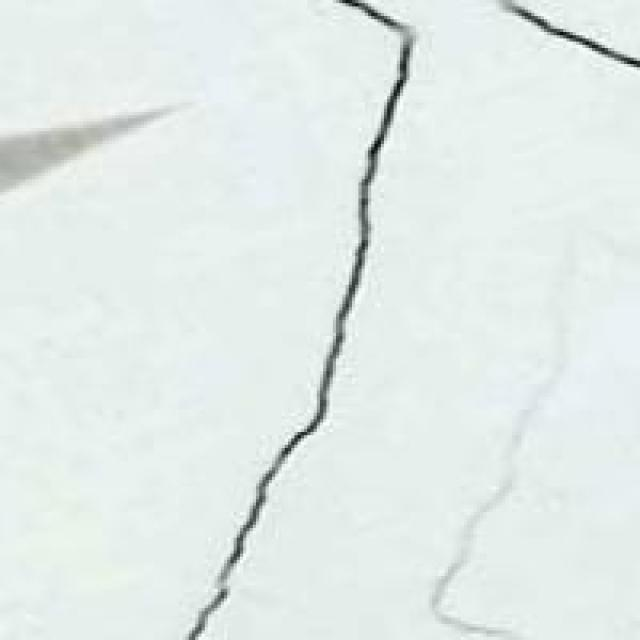Crack: (118, 0, 637, 637)
